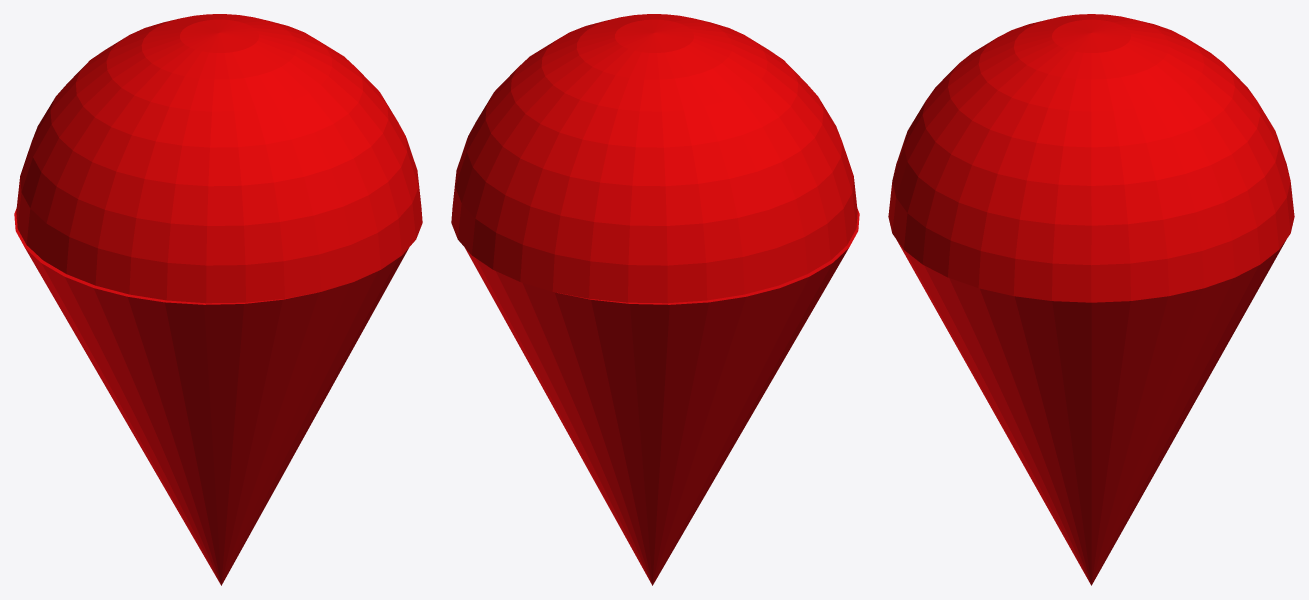
File: pin.glb
The picture shows the model from 3 angles, left to right: view 1: azimuth 30°, elevation 25°; view 2: azimuth 150°, elevation 25°; view 3: azimuth 270°, elevation 25°; orthographic projection.
Visible parts, largest first — view 1: 球体, 锥体; view 2: 球体, 锥体; view 3: 球体, 锥体.
Part boxes in pixels (x1,y1,x2,y2): 球体: (16,14,422,303); 锥体: (14,208,408,585); 球体: (451,14,857,303); 锥体: (465,208,859,585); 球体: (888,14,1294,302); 锥体: (897,240,1285,585).
Bounding box in the file's own units: 2.01 × 3 × 2.
